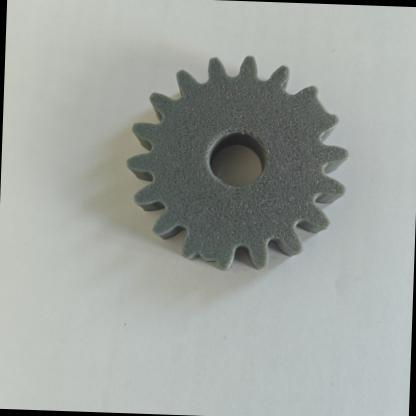defect: (264, 72, 354, 152), (166, 228, 236, 286)
gear: (111, 41, 377, 304)
